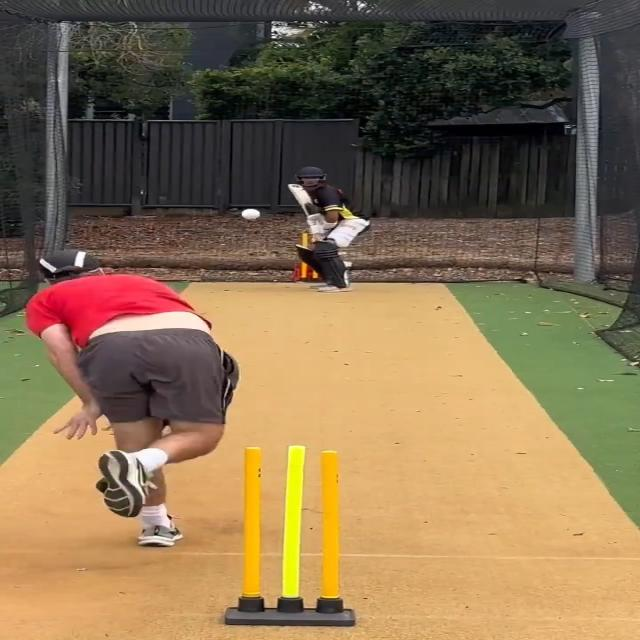ball: (240, 208, 260, 221)
stump: (225, 444, 356, 626)
